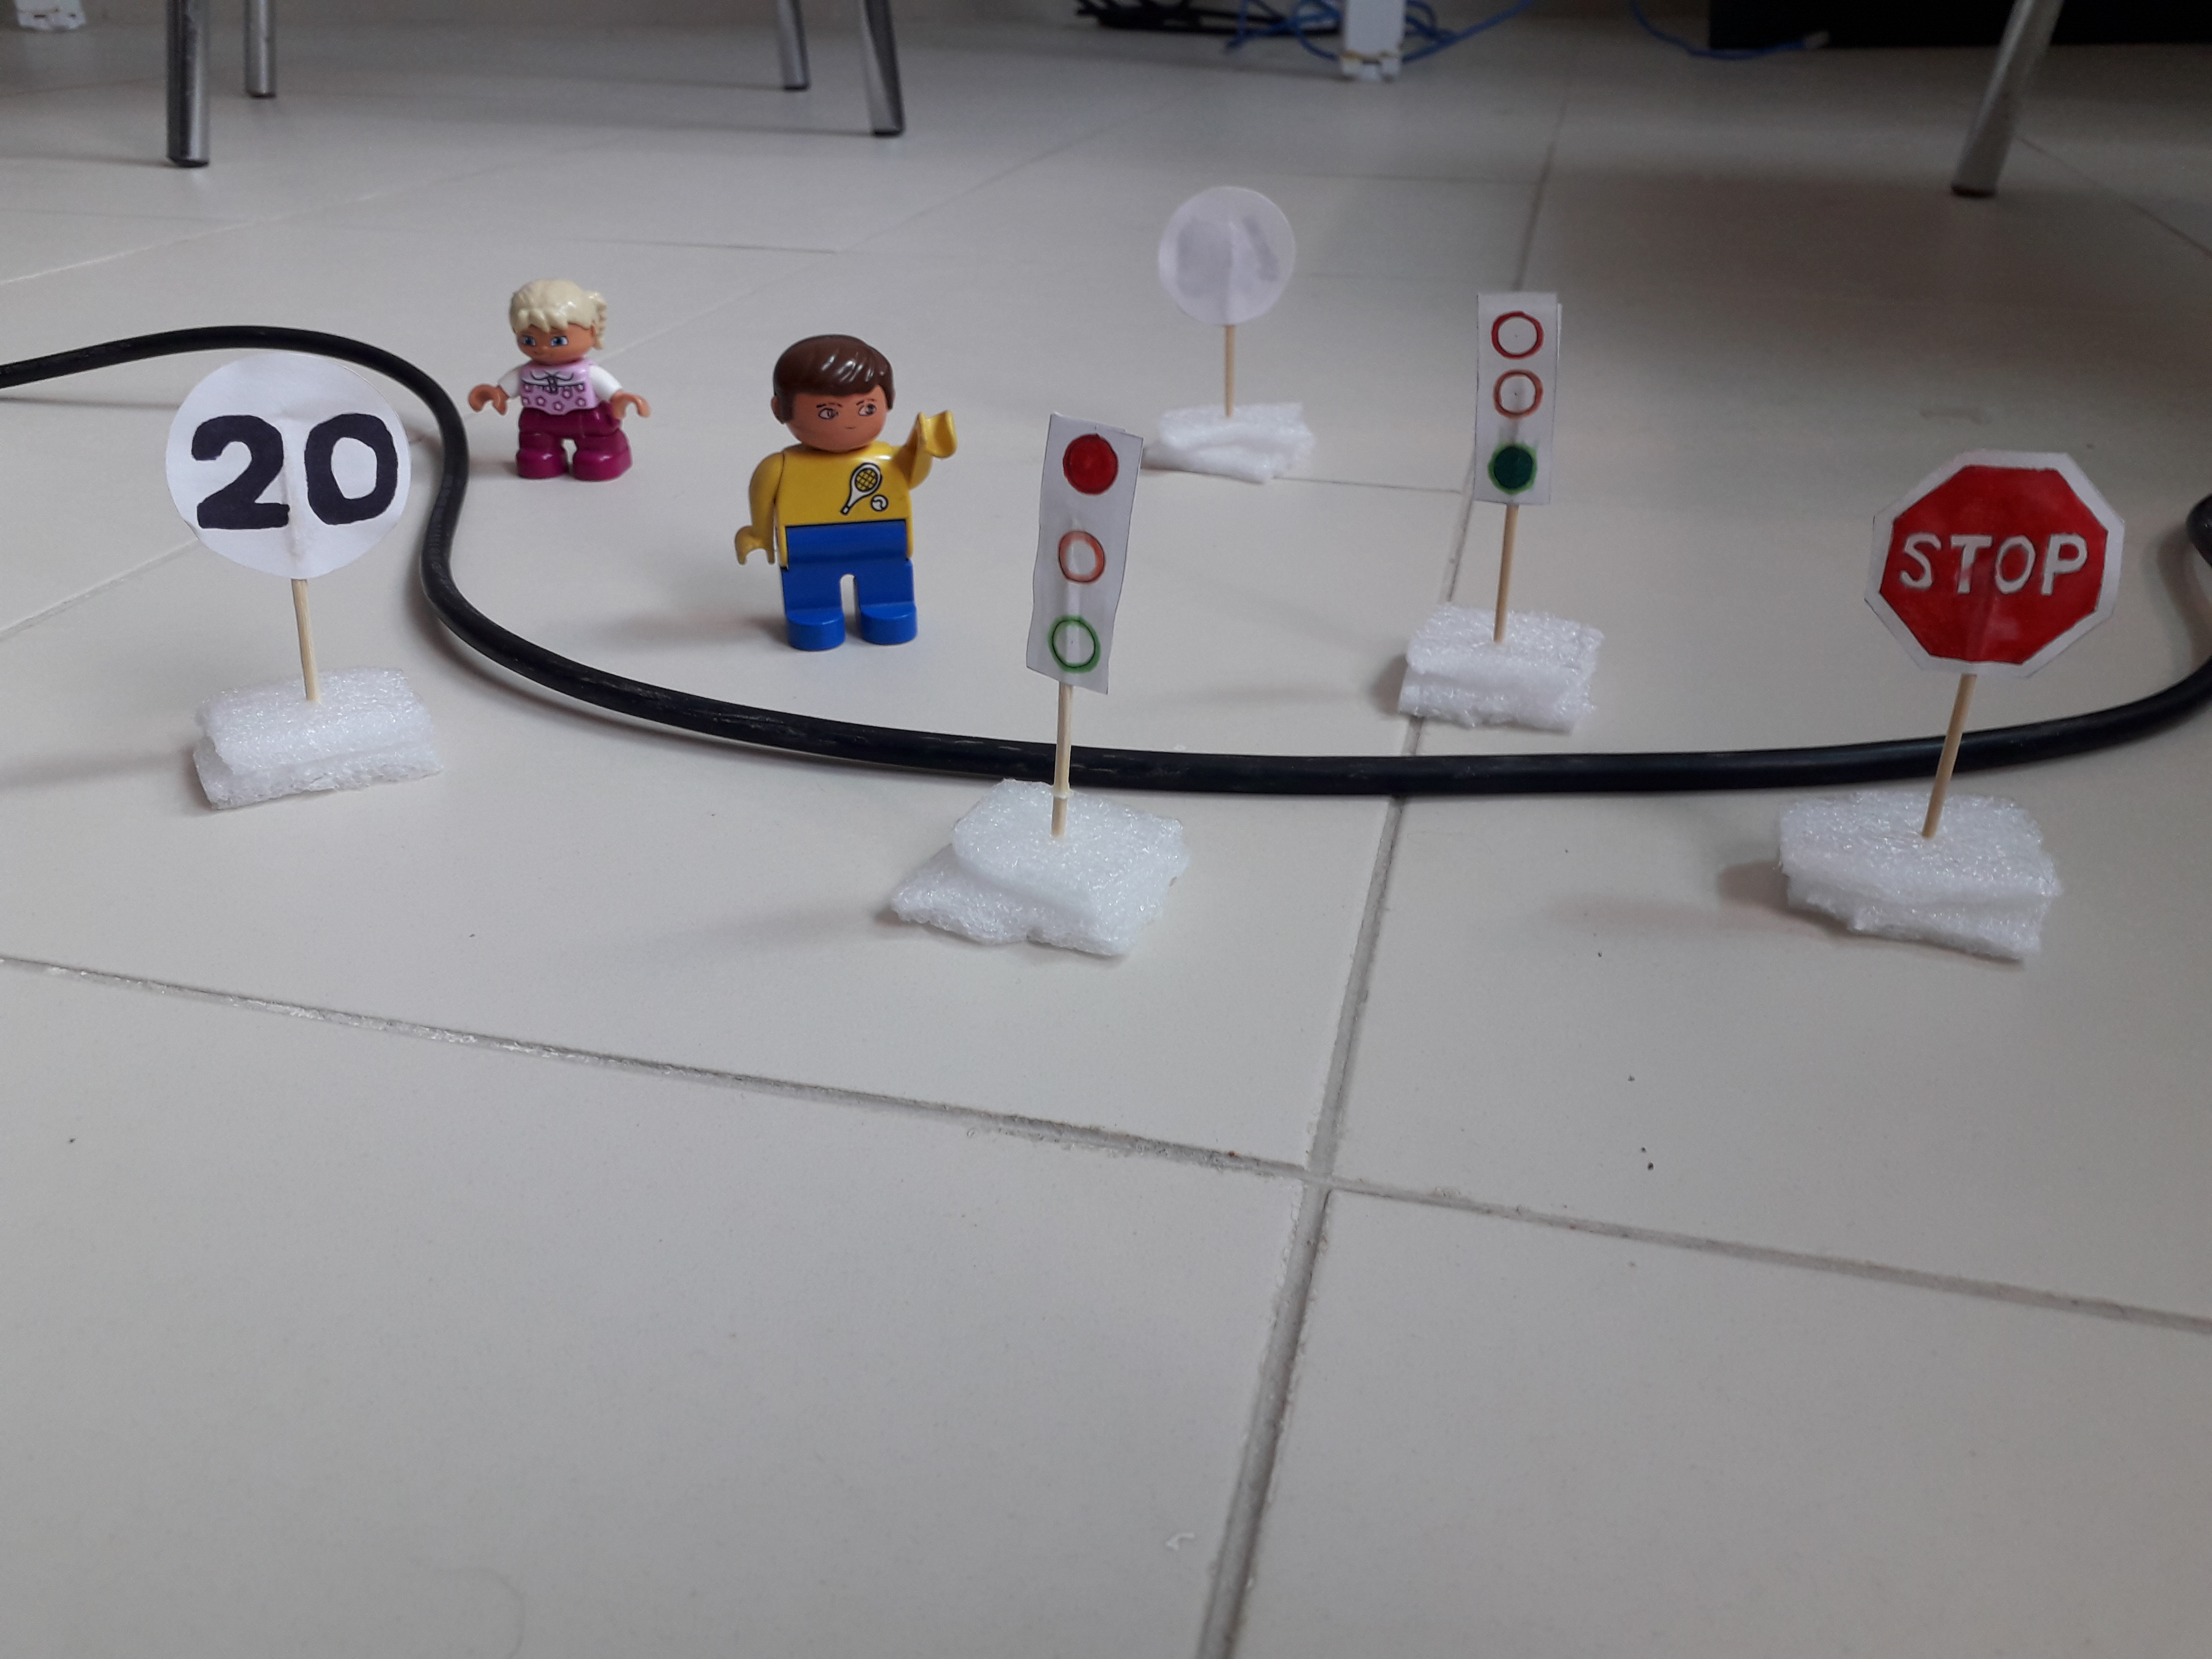20_sign: (163, 352, 413, 574)
green_light: (1464, 293, 1572, 541)
person: (724, 342, 959, 663), (467, 270, 653, 487)
red_light: (1018, 416, 1155, 697)
stop_sign: (1867, 454, 2128, 674)
